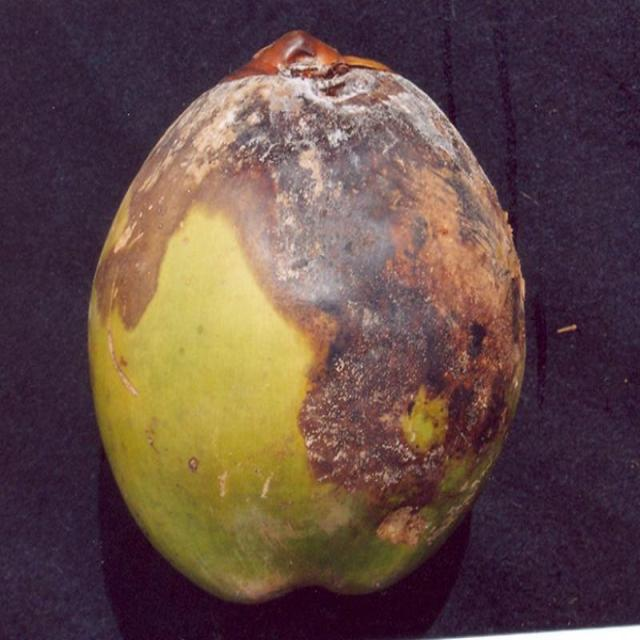damaged: (86, 31, 528, 629)
